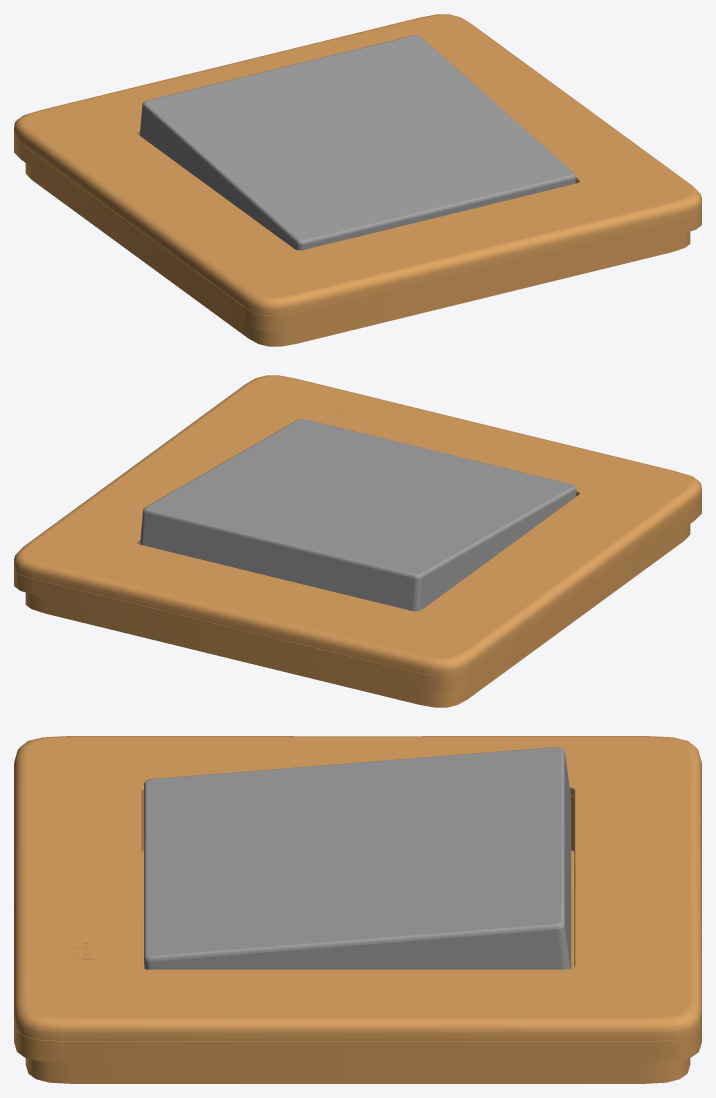
Rendered from Swich.fbx.
3 views of the same model, one above another, from view 1: azimuth 30°, elevation 25°; view 2: azimuth 150°, elevation 25°; view 3: azimuth 270°, elevation 25° (orthographic). The views are drawn at different scales.
Visible parts, largest first — view 1: SE_M_Creativ_MTN4055, SE_M_Creativ_MTN3340_015; view 2: SE_M_Creativ_MTN4055, SE_M_Creativ_MTN3340_015; view 3: SE_M_Creativ_MTN4055, SE_M_Creativ_MTN3340_015.
Boxes of the visible parts, bbox=[...] form: SE_M_Creativ_MTN4055: bbox=[14, 14, 701, 346]; SE_M_Creativ_MTN3340_015: bbox=[139, 35, 575, 250]; SE_M_Creativ_MTN4055: bbox=[14, 375, 701, 707]; SE_M_Creativ_MTN3340_015: bbox=[140, 419, 576, 611]; SE_M_Creativ_MTN4055: bbox=[14, 736, 701, 1083]; SE_M_Creativ_MTN3340_015: bbox=[144, 747, 571, 969].
Bounding box in the file's own units: 9120 × 1581 × 9120.
